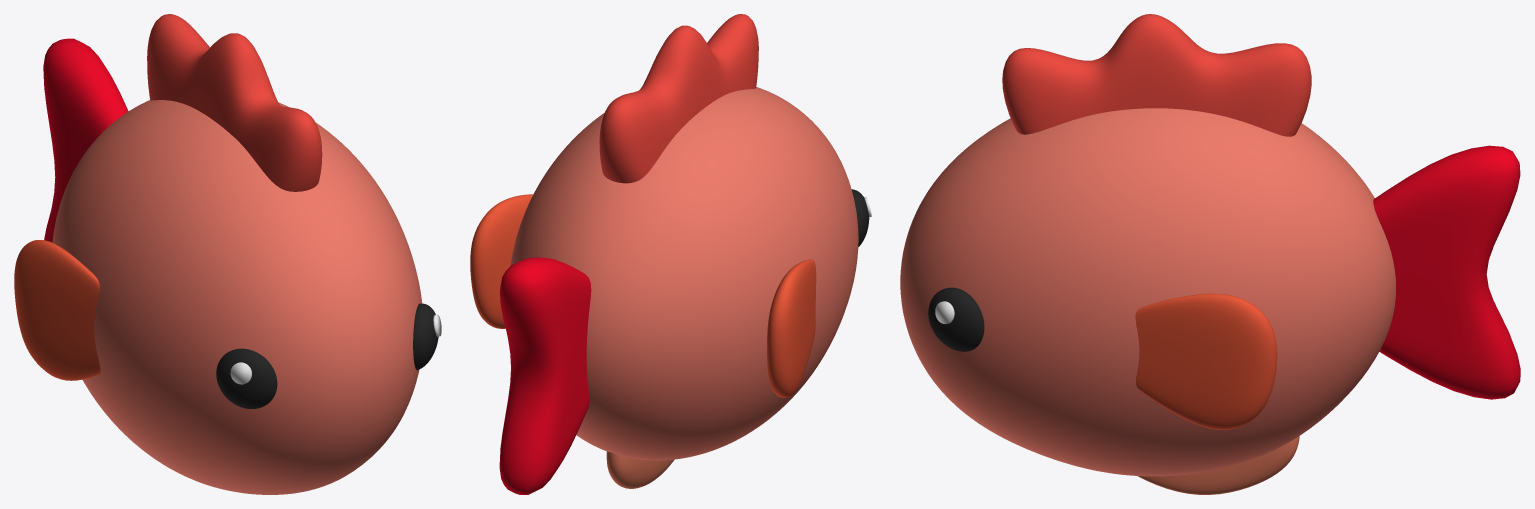
Rendered from fish_2crown_downsize.glb.
The picture shows the model from 3 angles, left to right: view 1: azimuth 30°, elevation 25°; view 2: azimuth 150°, elevation 25°; view 3: azimuth 270°, elevation 25°; orthographic projection. The views are drawn at different scales.
Visible parts, largest first — view 1: ahaxhd, qutmf, mainwinnng, Rhfl, eyeee, Cylinder; view 2: ahaxhd, Rhfl, qutmf, mainwinnng, dnltsha, eyeee; view 3: ahaxhd, Rhfl, qutmf, mainwinnng, dnltsha, eyeee.
Boxes of the visible parts, box(x1,y1,x2,y2) form: ahaxhd: box(52, 100, 422, 494); qutmf: box(147, 14, 322, 191); mainwinnng: box(14, 240, 100, 380); Rhfl: box(43, 38, 128, 242); eyeee: box(216, 303, 438, 408); Cylinder: box(230, 314, 441, 384); ahaxhd: box(510, 87, 858, 460); Rhfl: box(499, 257, 591, 494); qutmf: box(599, 14, 758, 183); mainwinnng: box(470, 194, 816, 397); dnltsha: box(606, 451, 674, 488); eyeee: box(851, 189, 869, 246); ahaxhd: box(900, 108, 1395, 476); Rhfl: box(1373, 145, 1520, 399); qutmf: box(1002, 14, 1311, 136); mainwinnng: box(1135, 293, 1277, 429); dnltsha: box(1138, 436, 1299, 494); eyeee: box(928, 287, 984, 351).
Size of the model in its own units: 1.22 by 1.6 by 1.89.
